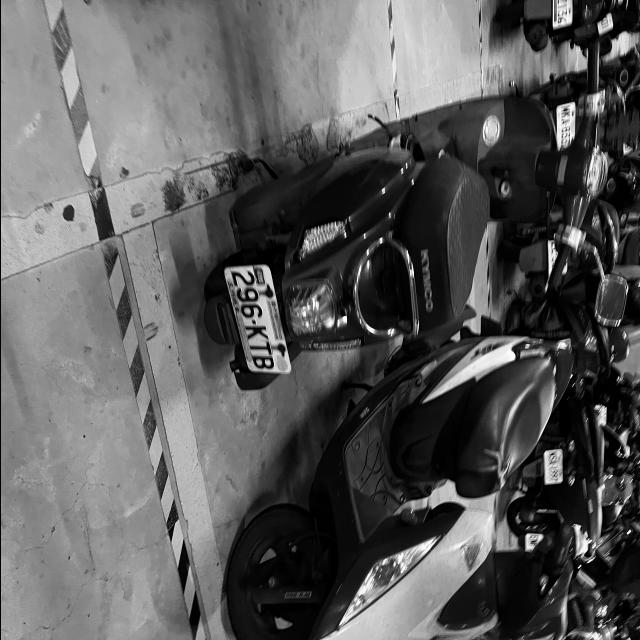-: (250, 318, 256, 326)
2: (229, 269, 257, 290)
3: (556, 8, 567, 18)
6: (238, 303, 263, 318), (556, 16, 567, 25)
9: (234, 286, 260, 304)
B: (251, 355, 275, 370)
K: (243, 325, 269, 341), (560, 111, 570, 119)
T: (248, 341, 272, 355)
plate: (223, 267, 288, 372)
